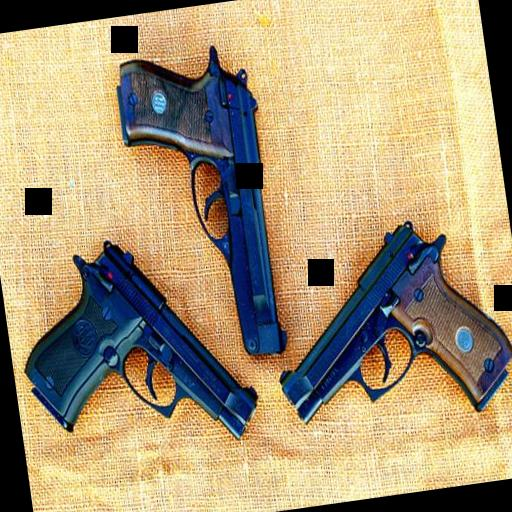Handgun: (256, 203, 512, 455), (8, 218, 260, 470), (108, 42, 291, 374)
